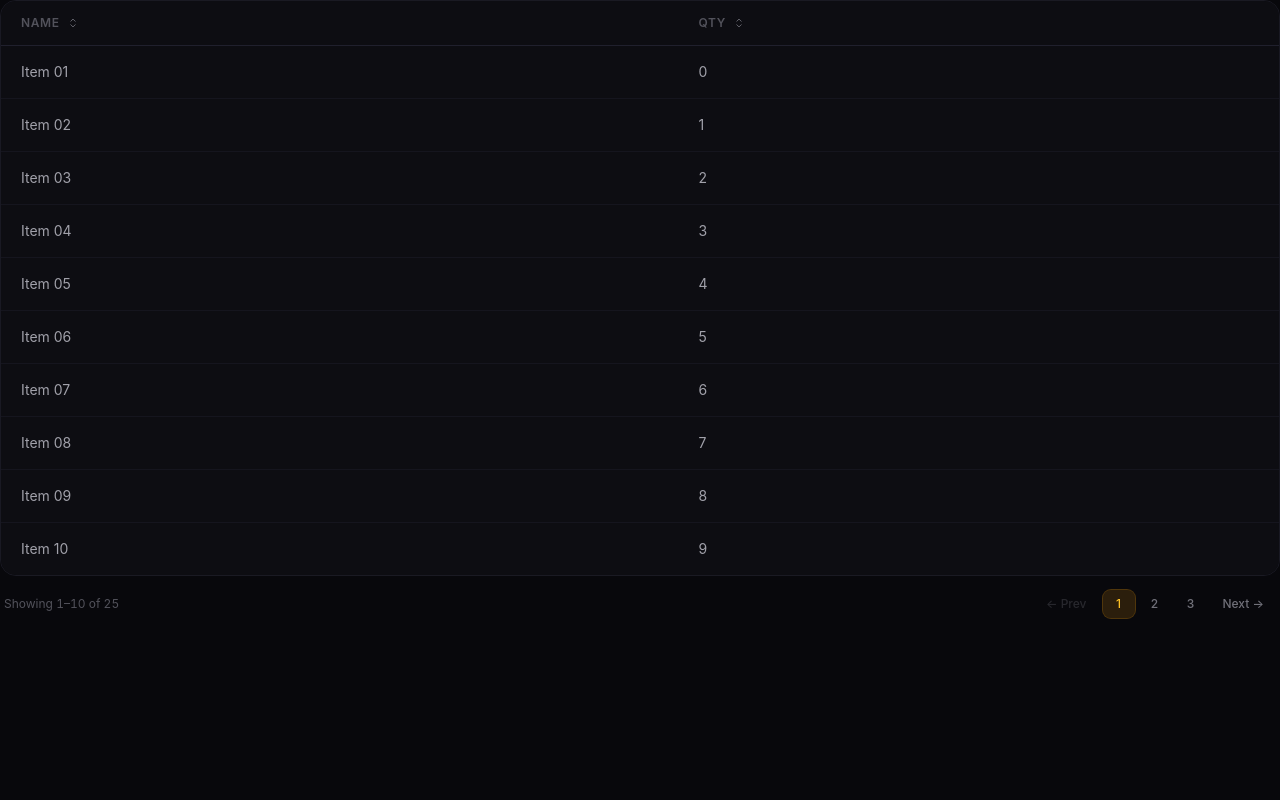
Test: DataTable — pagination › navigates to next page on Next click
This screenshot has width=1280, height=800.
Click the button "Next →": point(1243, 604) [1210,590,1276,618]
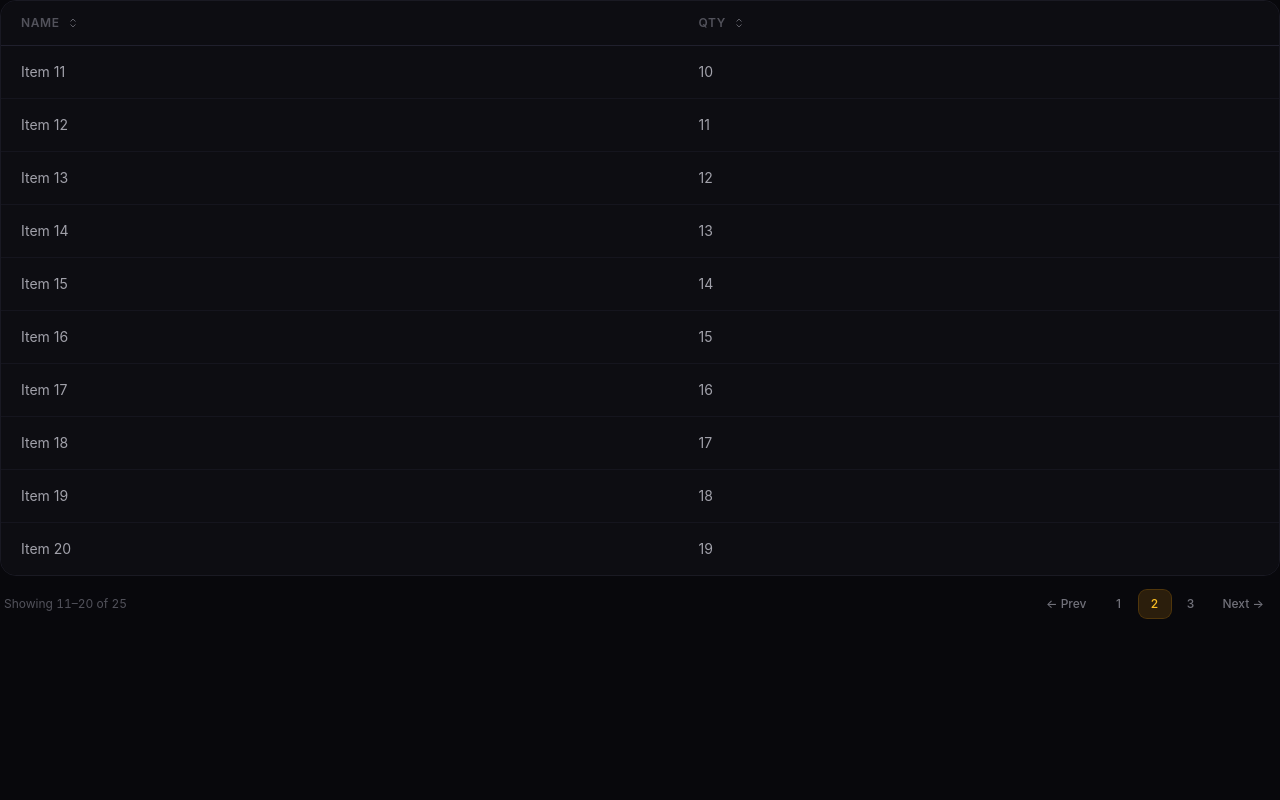
Result: the text "Item 11" is shown at [1,46,679,98]
Result: the text "Item 01" is gone
